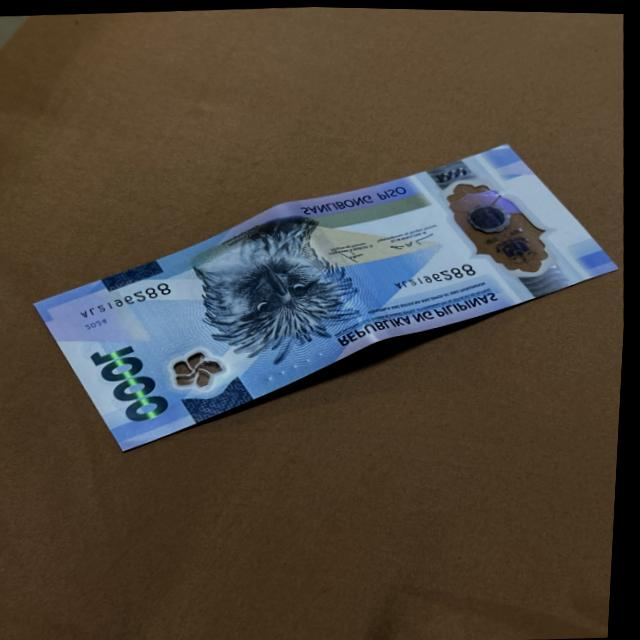clear_window: (444, 167, 565, 283)
eagle: (193, 215, 368, 351)
sampaguita: (169, 343, 229, 391)
